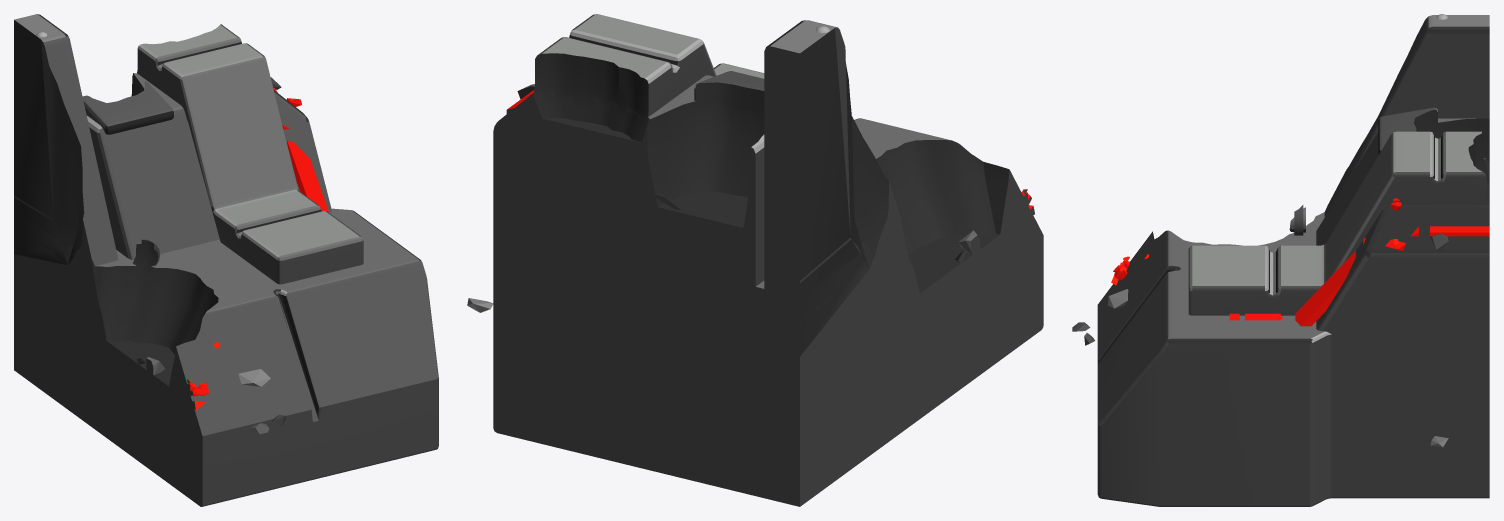
The model's file is window_block_br_wreck.glb.
The picture shows the model from 3 angles, left to right: view 1: azimuth 30°, elevation 25°; view 2: azimuth 150°, elevation 25°; view 3: azimuth 270°, elevation 25°; orthographic projection. The views are drawn at different scales.
Parts seen in each view (by area): view 1: plinth.001, duct.001, tower.001, right.001, louvre3.001, seam6.001; view 2: plinth.001, right.001, tower.001, duct.001, louvre3.001; view 3: plinth.001, right.001, duct.001, tower.001, seam6.001, louvre3.001, seam4.001.
Boxes of the visible parts, x1,y1,x2,y2 form: plinth.001: (14,208,438,506); duct.001: (137,24,363,284); tower.001: (14,14,118,285); right.001: (86,73,331,259); louvre3.001: (82,81,173,134); seam6.001: (287,140,329,212); plinth.001: (493,118,1043,506); right.001: (493,75,764,458); tower.001: (764,20,904,320); duct.001: (533,14,764,131); louvre3.001: (694,71,764,112); plinth.001: (1097,212,1489,506); right.001: (1316,118,1489,361); duct.001: (1188,131,1489,315); tower.001: (1324,15,1489,217); seam6.001: (1295,251,1355,326); louvre3.001: (1378,107,1437,155); seam4.001: (1430,226,1489,236).
Size of the model in its own units: 16.34 by 19.64 by 20.23.
